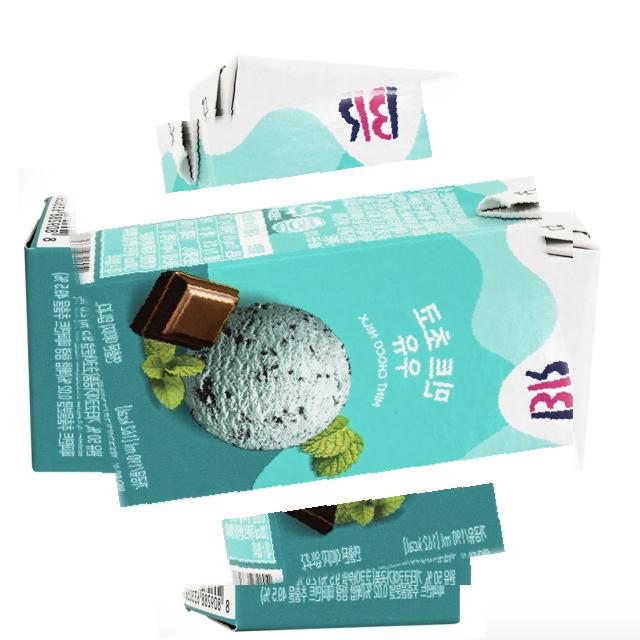biodegradable: (70, 83, 573, 585)
